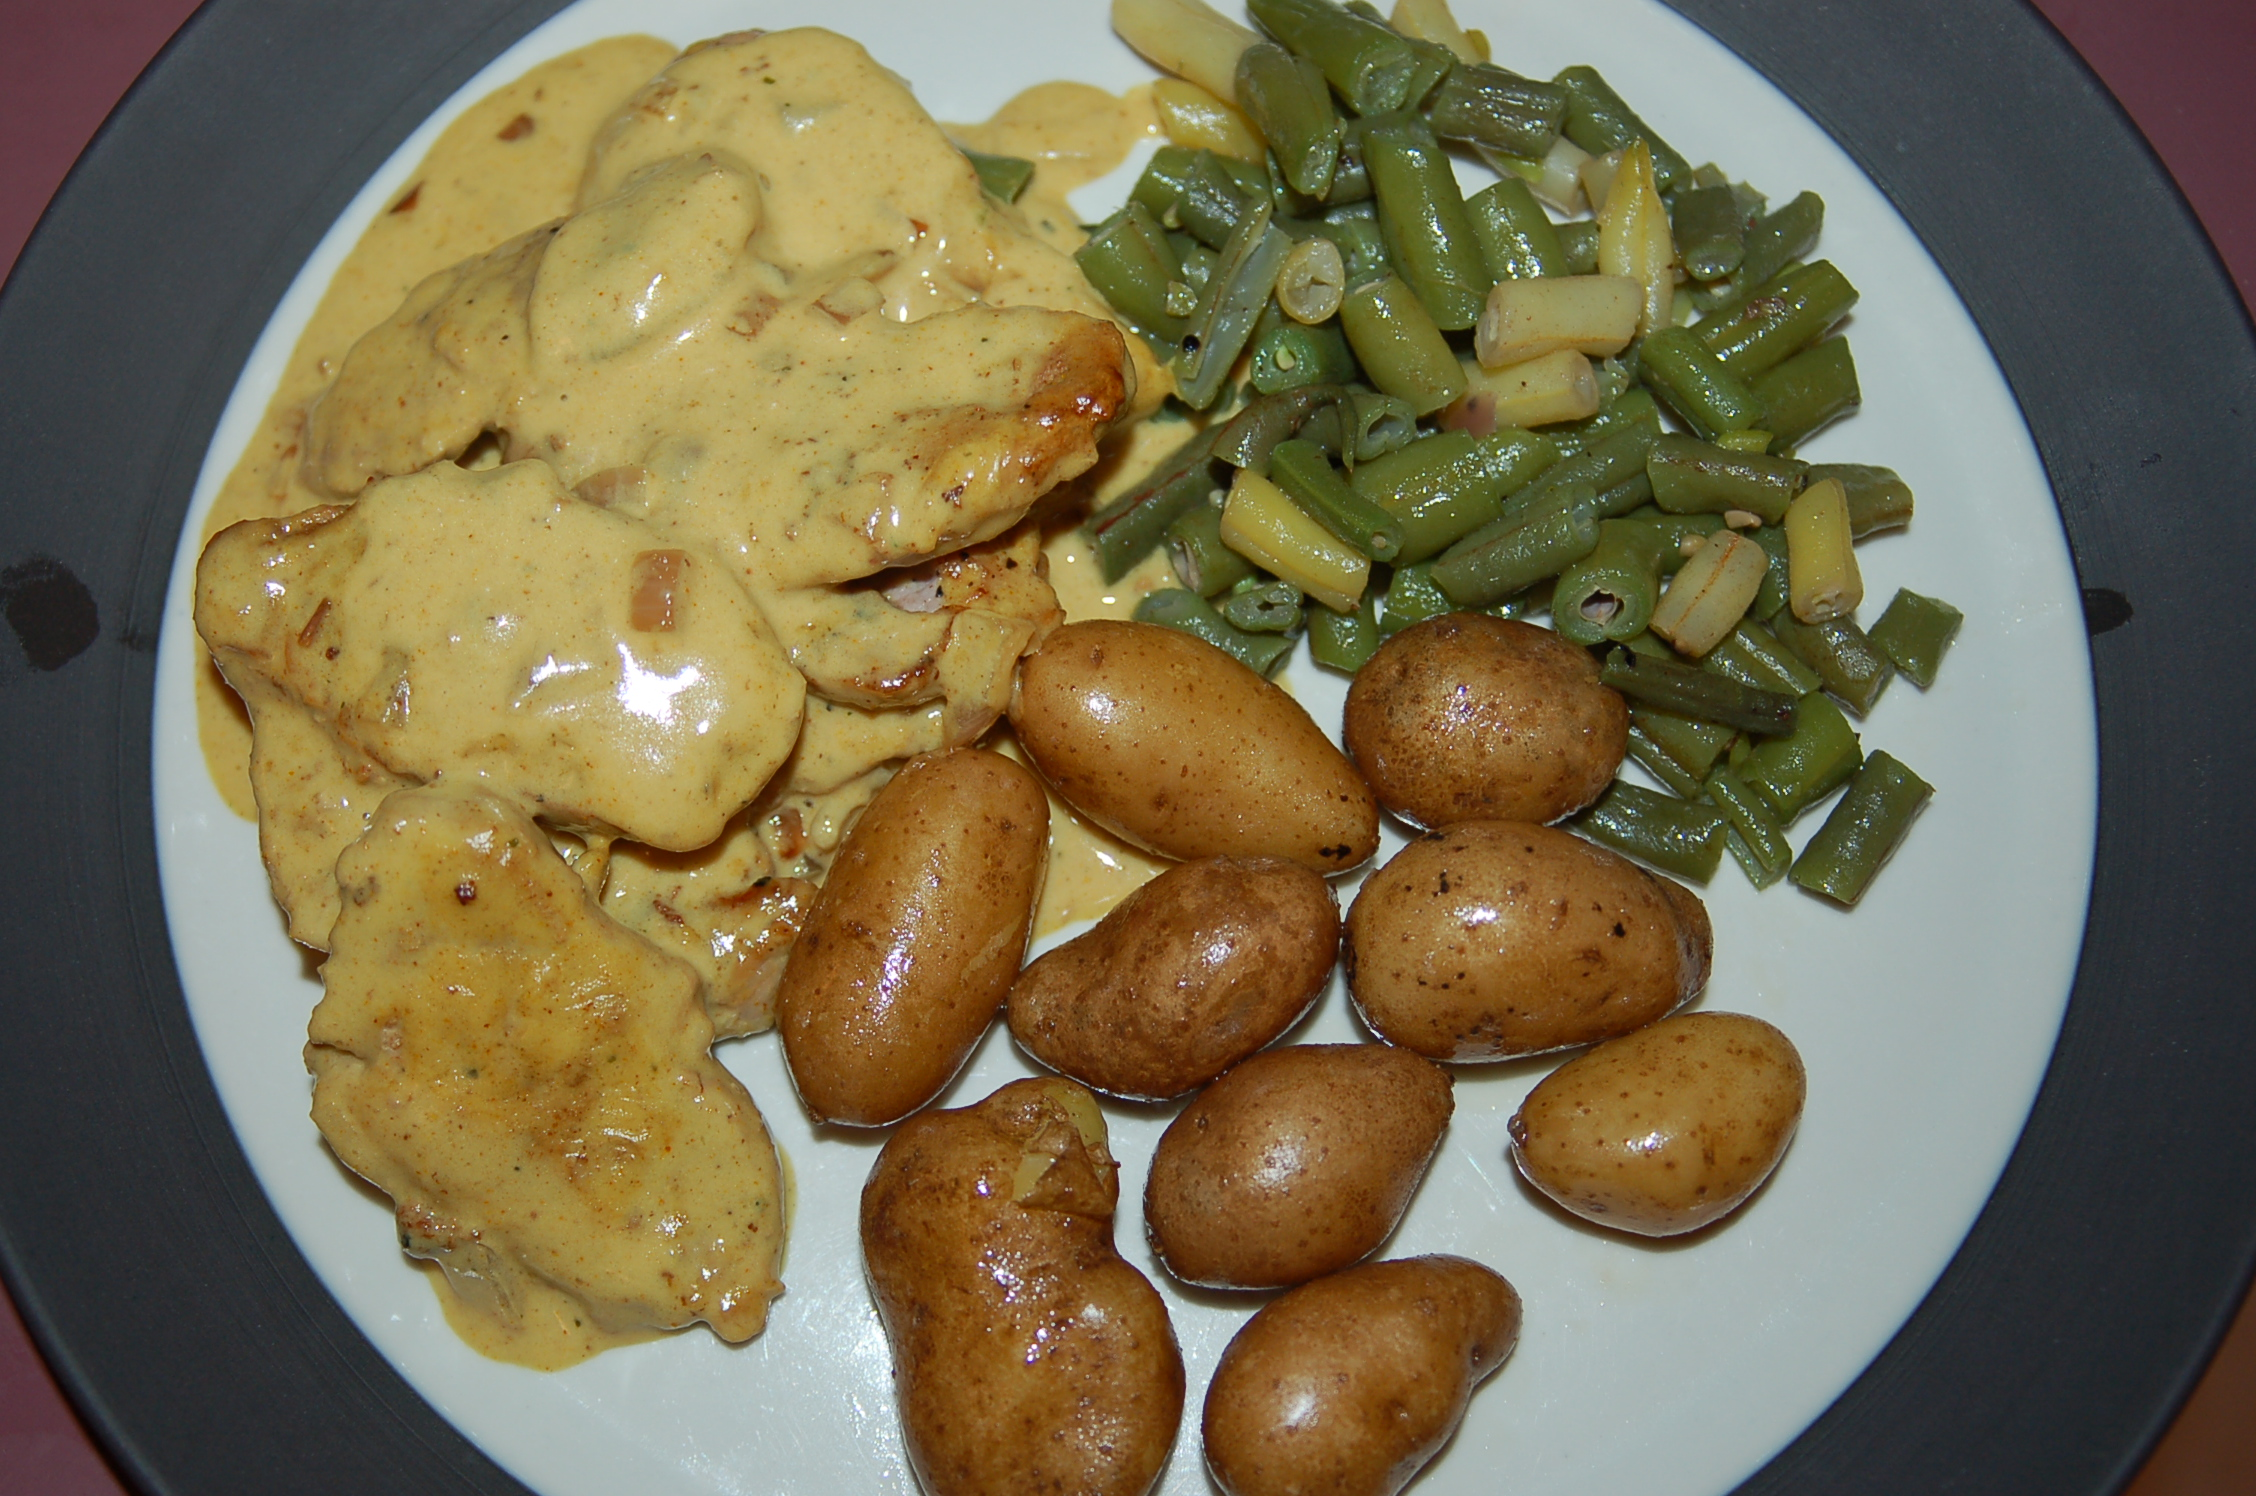boiled potatoes: (887, 643, 1722, 1413)
